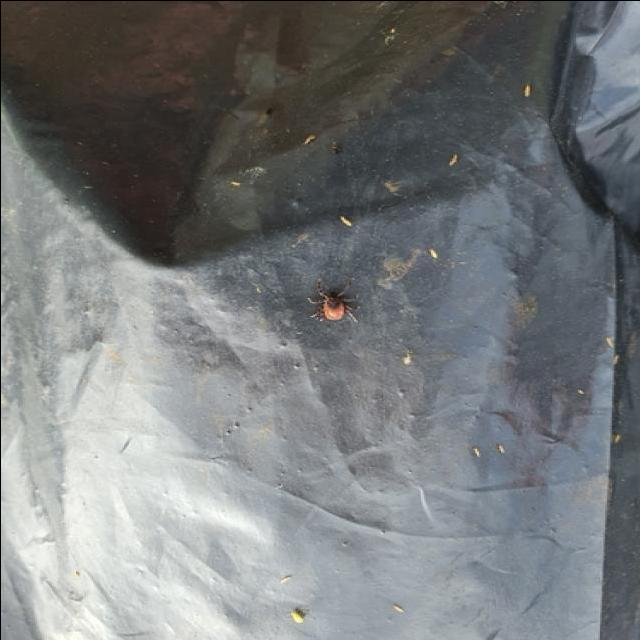Ixodes Ricinus-F: (305, 279, 358, 326)
